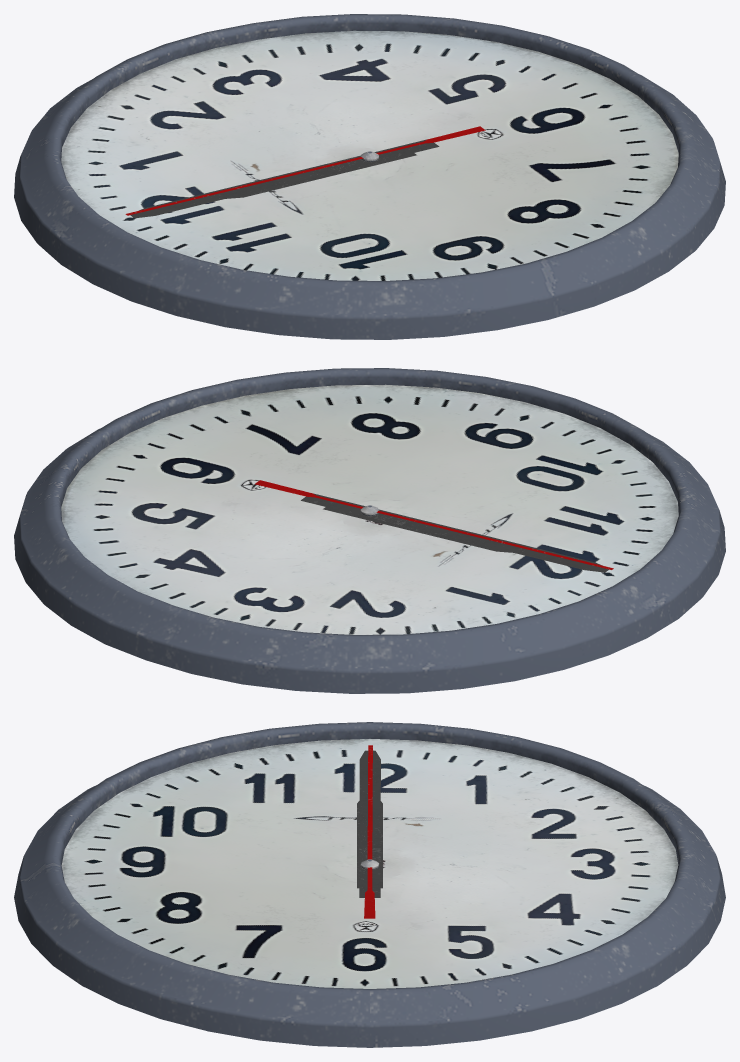
Rendered from Clock.fbx.
The picture shows the model from 3 angles, top to bottom: view 1: azimuth 30°, elevation 25°; view 2: azimuth 150°, elevation 25°; view 3: azimuth 270°, elevation 25°; orthographic projection.
Visible parts, largest first — view 1: Clock, BigArrow, SecondArrow, SmallArrow; view 2: Clock, BigArrow, SecondArrow, SmallArrow; view 3: Clock, BigArrow, SecondArrow.
Boxes of the visible parts, x1=… form: Clock: x1=14, y1=14, x2=725, y2=339; BigArrow: x1=130, y1=139, x2=439, y2=218; SecondArrow: x1=125, y1=126, x2=485, y2=215; SmallArrow: x1=226, y1=153, x2=416, y2=198; Clock: x1=14, y1=368, x2=725, y2=693; BigArrow: x1=301, y1=493, x2=608, y2=572; SecondArrow: x1=255, y1=480, x2=613, y2=569; SmallArrow: x1=323, y1=507, x2=513, y2=552; Clock: x1=14, y1=722, x2=725, y2=1047; BigArrow: x1=359, y1=750, x2=380, y2=897; SecondArrow: x1=364, y1=745, x2=375, y2=918.
Size of the model in its own units: 39.23 by 2.48 by 39.23.
Materials: 1 (1 with a texture image).
